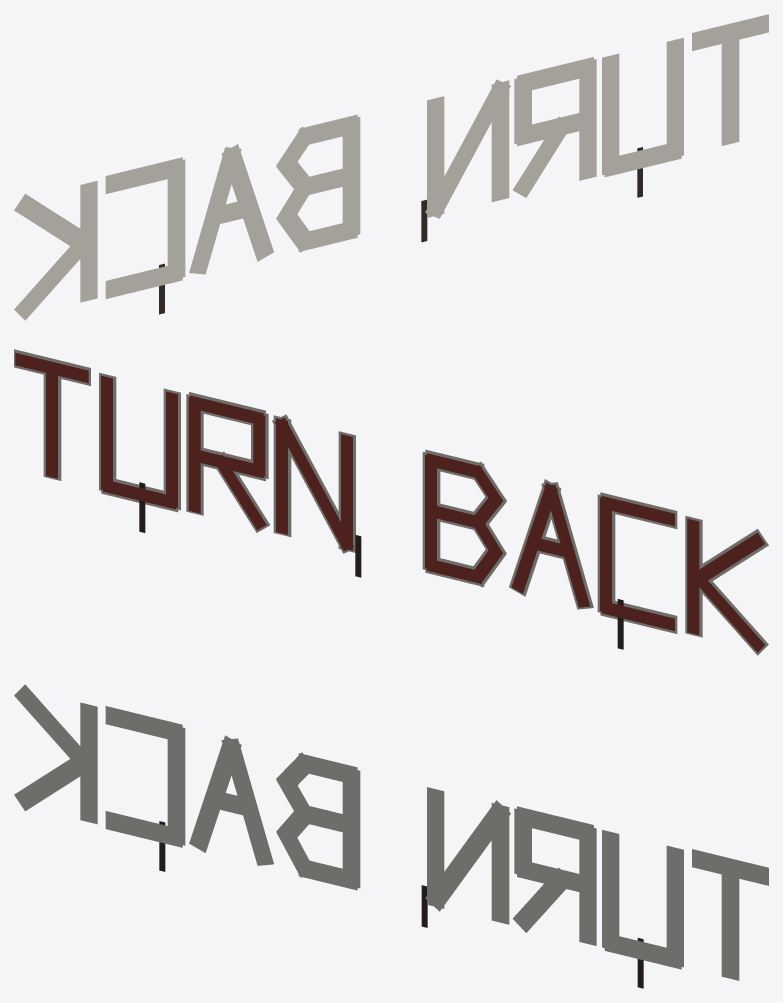
Rendered from graffiti_turn_back.glb.
3 renders of one model, top to bottom at view 1: azimuth 30°, elevation 25°; view 2: azimuth 150°, elevation 25°; view 3: azimuth 330°, elevation 25°, orthographic.
Parts seen in each view (by area): view 1: graffiti_turn_back; view 2: graffiti_turn_back; view 3: graffiti_turn_back.
Boxes of the visible parts, x1=… form: graffiti_turn_back: x1=14, y1=14, x2=768, y2=320; graffiti_turn_back: x1=14, y1=349, x2=768, y2=655; graffiti_turn_back: x1=14, y1=684, x2=768, y2=988.
Bounding box in the file's own units: 4.89 × 0.9521 × 0.005.
Materials: 2 (2 with a texture image).
